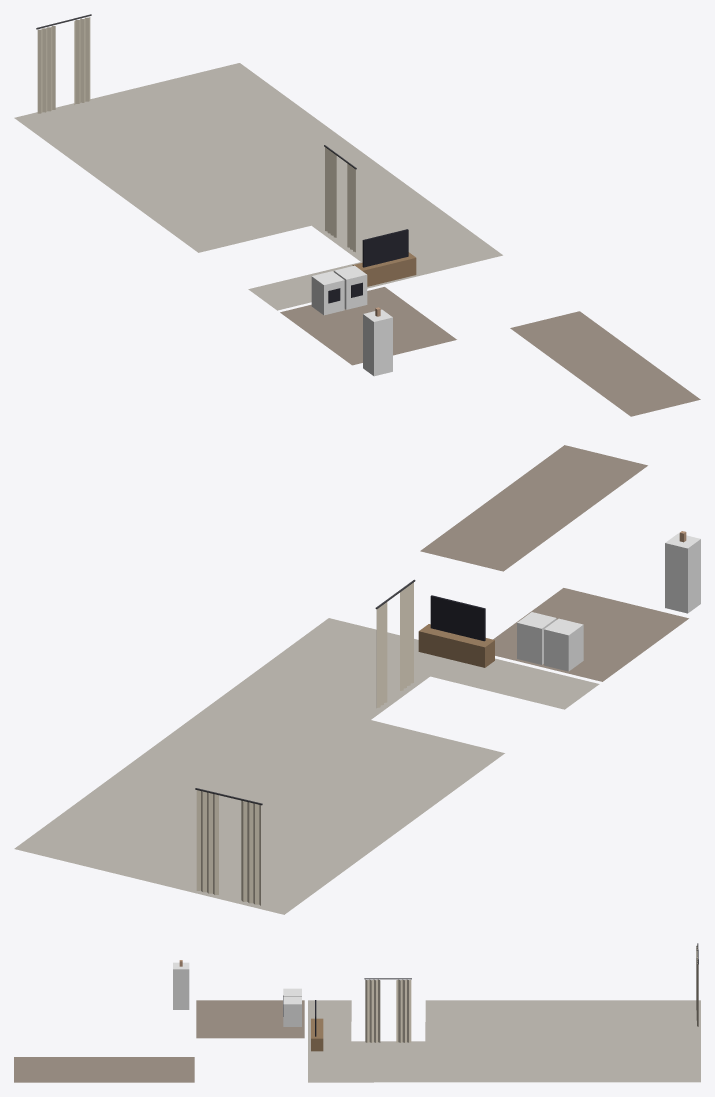
The model's file is fine-s0.glb.
3 renders of one model, top to bottom at view 1: azimuth 30°, elevation 25°; view 2: azimuth 150°, elevation 25°; view 3: azimuth 270°, elevation 25°, orthographic. The views are drawn at different scales.
Visible parts, largest first — view 1: soft-s0, tv-console.000, water-heater.000, washer.000, washer.001; view 2: soft-s0, tv-console.000, water-heater.000, washer.000, washer.001; view 3: soft-s0, water-heater.000, washer.001, tv-console.000.
Boxes of the visible parts, x1,y1,x2,y2 form: soft-s0: [14, 14, 700, 416]; tv-console.000: [352, 229, 416, 286]; water-heater.000: [363, 307, 392, 376]; washer.000: [311, 271, 344, 315]; washer.001: [334, 265, 367, 309]; soft-s0: [14, 445, 688, 914]; tv-console.000: [418, 595, 494, 667]; water-heater.000: [665, 531, 700, 613]; washer.000: [544, 618, 583, 671]; washer.001: [517, 612, 556, 664]; soft-s0: [14, 943, 700, 1082]; water-heater.000: [173, 960, 189, 1009]; washer.001: [283, 996, 301, 1026]; tv-console.000: [311, 1000, 323, 1051].
Bounding box in the file's own units: 6.55 × 2.4 × 23.05.
